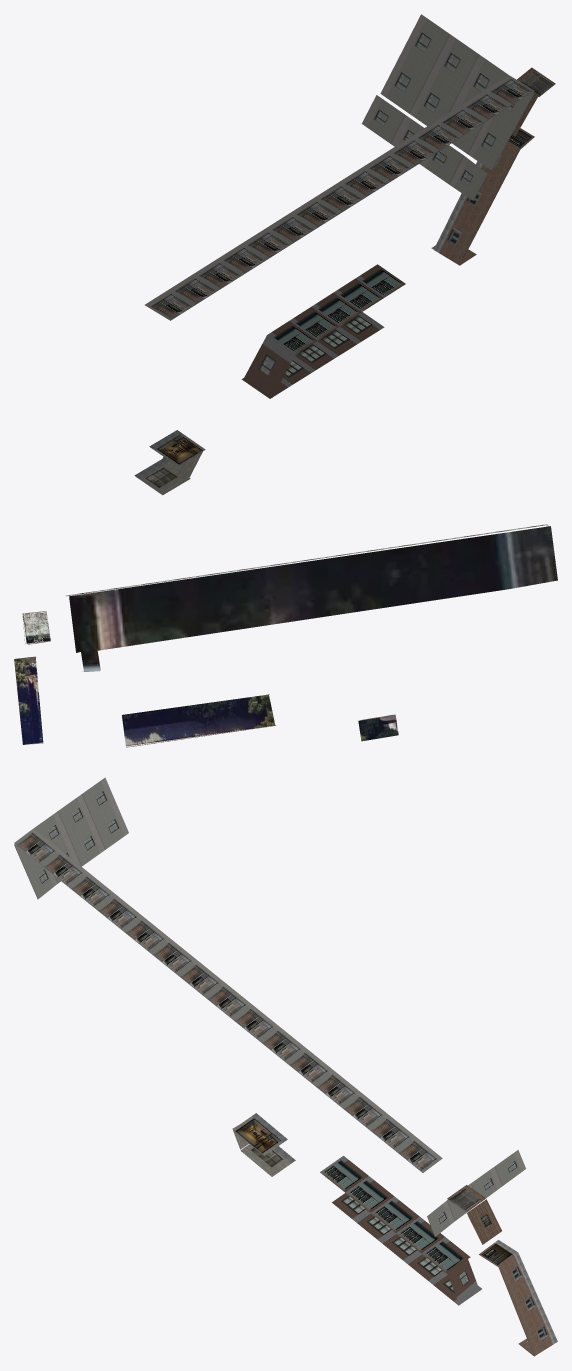
Rendered from tile_LOD4_r2_c5.glb.
3 views of the same model, one above another, from view 1: azimuth 30°, elevation 25°; view 2: azimuth 150°, elevation 25°; view 3: azimuth 270°, elevation 25° (orthographic). The views are drawn at different scales.
Size of the model in its own units: 91 by 43 by 68.5.
21 materials, 21 textured.
